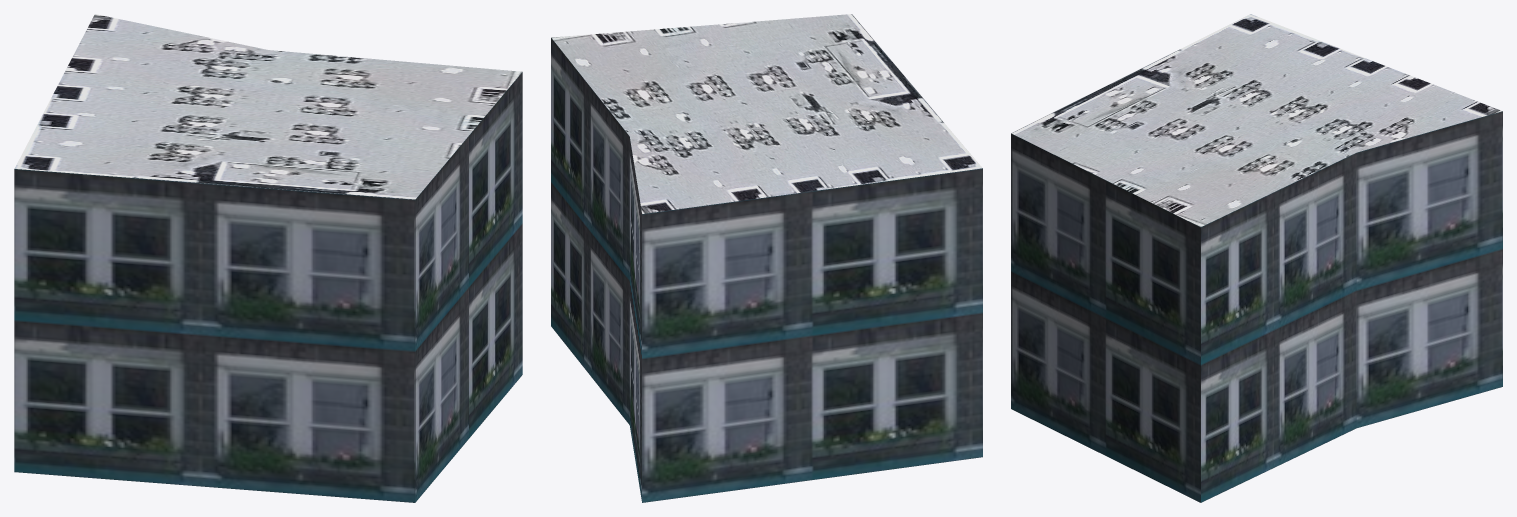
The model's file is ResTex__3148.fbx.
The picture shows the model from 3 angles, left to right: view 1: azimuth 30°, elevation 25°; view 2: azimuth 150°, elevation 25°; view 3: azimuth 270°, elevation 25°; orthographic projection. The views are drawn at different scales.
Parts seen in each view (by area): view 1: CityEngineMaterial_11_m, CityEngineMaterial_m; view 2: CityEngineMaterial_11_m, CityEngineMaterial_m; view 3: CityEngineMaterial_11_m, CityEngineMaterial_m.
Part boxes in pixels (x1,y1,x2,y2): CityEngineMaterial_11_m: (14,72,522,502); CityEngineMaterial_m: (14,14,521,199); CityEngineMaterial_11_m: (551,38,982,502); CityEngineMaterial_m: (551,14,982,213); CityEngineMaterial_11_m: (1011,111,1502,502); CityEngineMaterial_m: (1011,14,1502,226).
Size of the model in its own units: 9.95 by 6 by 9.7.
Materials: 2 (2 with a texture image).
